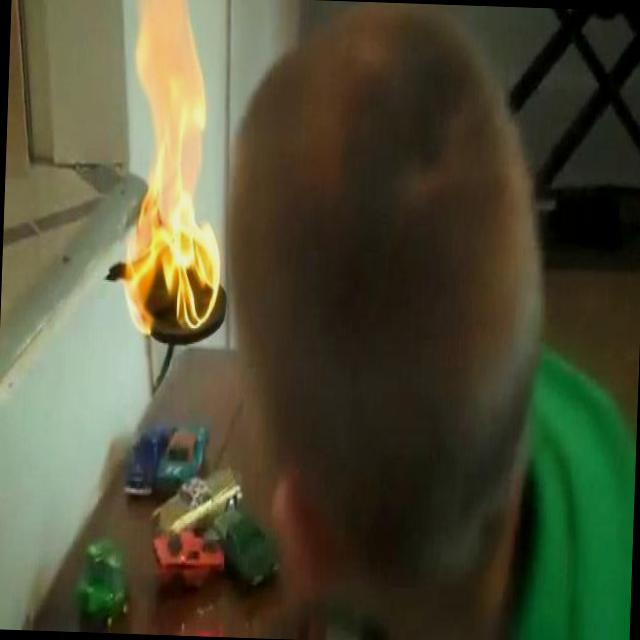fire: (94, 0, 231, 346)
